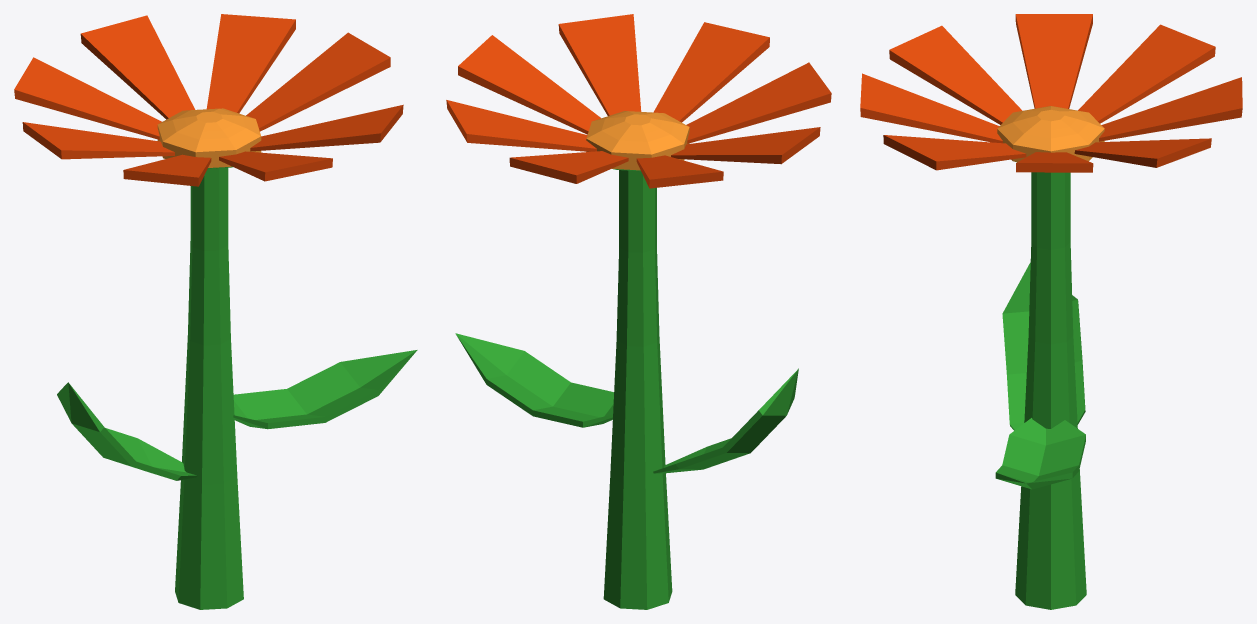
Rendered from flowerO.fbx.
The picture shows the model from 3 angles, left to right: view 1: azimuth 30°, elevation 25°; view 2: azimuth 150°, elevation 25°; view 3: azimuth 270°, elevation 25°; orthographic projection.
Parts seen in each view (by area): view 1: Cube; view 2: Cube; view 3: Cube.
Part boxes in pixels (x1=…): Cube: x1=14, y1=14, x2=417, y2=609; Cube: x1=446, y1=14, x2=831, y2=609; Cube: x1=860, y1=14, x2=1242, y2=609.
Size of the model in its own units: 57.91 by 78.08 by 52.85.
